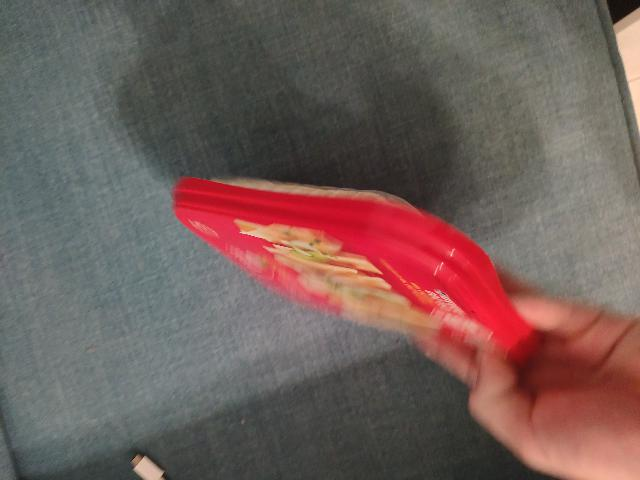cheese: (176, 169, 516, 364)
